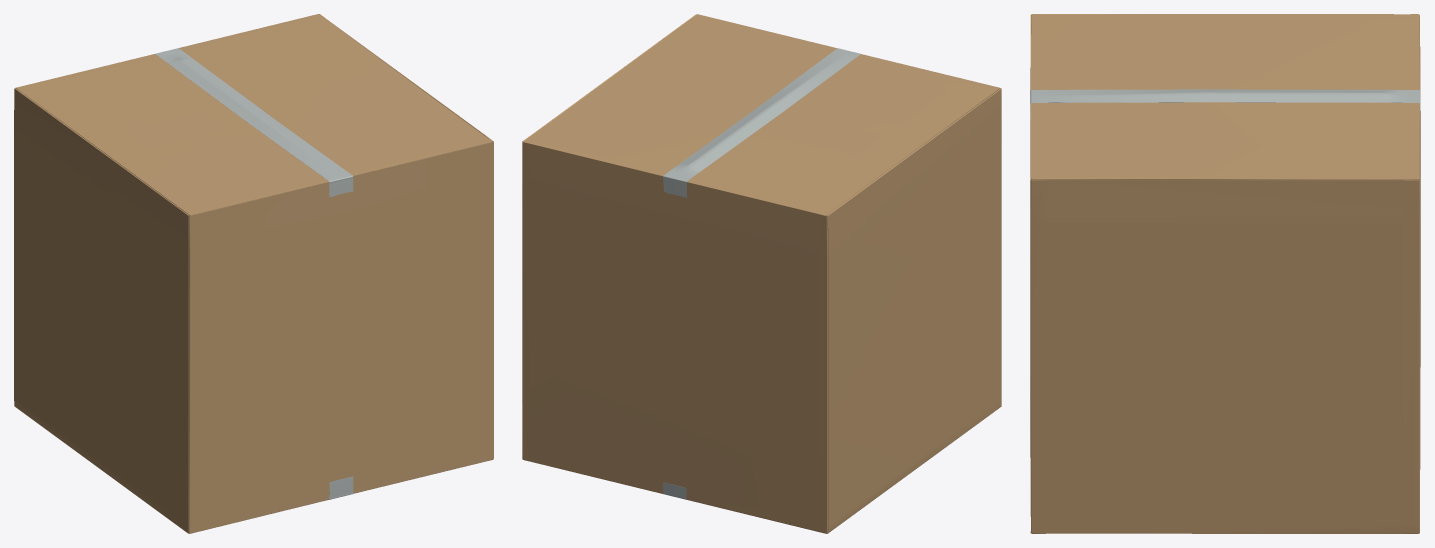
3 views of the same model, side by side, from view 1: azimuth 30°, elevation 25°; view 2: azimuth 150°, elevation 25°; view 3: azimuth 270°, elevation 25° (orthographic). The views are drawn at different scales.
Size of the model in its own units: 0.7718 by 0.7738 by 0.7643.
